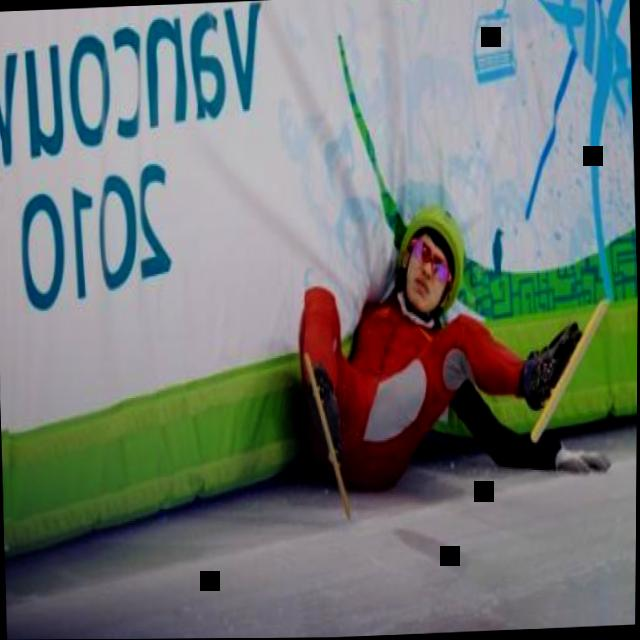Fall-Detected: (275, 178, 632, 508)
